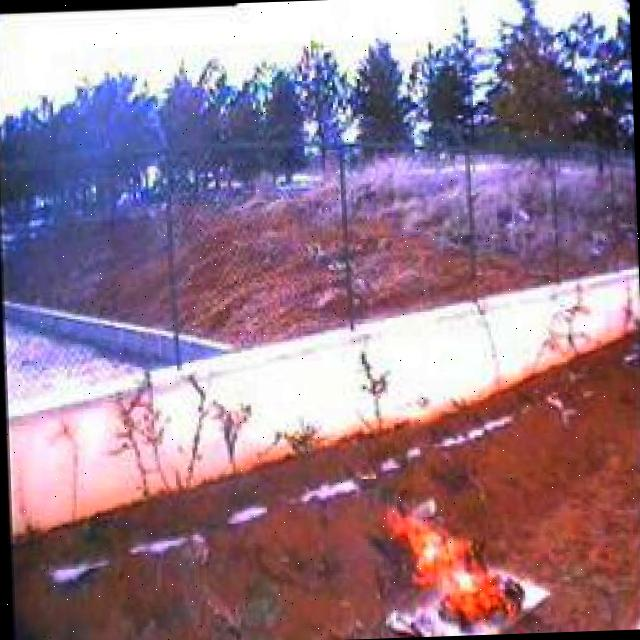fire: (382, 490, 528, 638)
